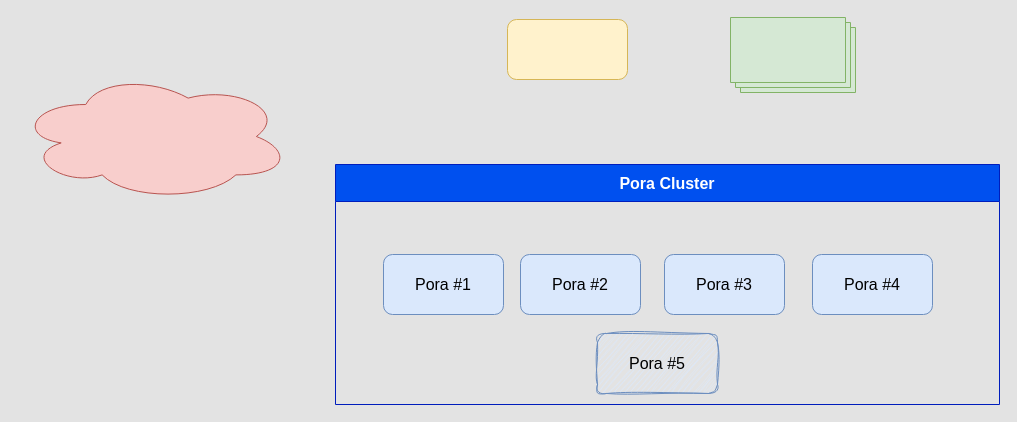
The diagram is 1017 pixels wide and 422 high, and some of its shapes have lost their labels. The shapes that lost their labels are listed below. From the top down, each one's centre as x and y in pixels, then its label:
At pixel 567 49: "Writer".
At pixel 793 54: "Readers".
At pixel 153 136: "Distribution Coordination Metadata(etcd)".
